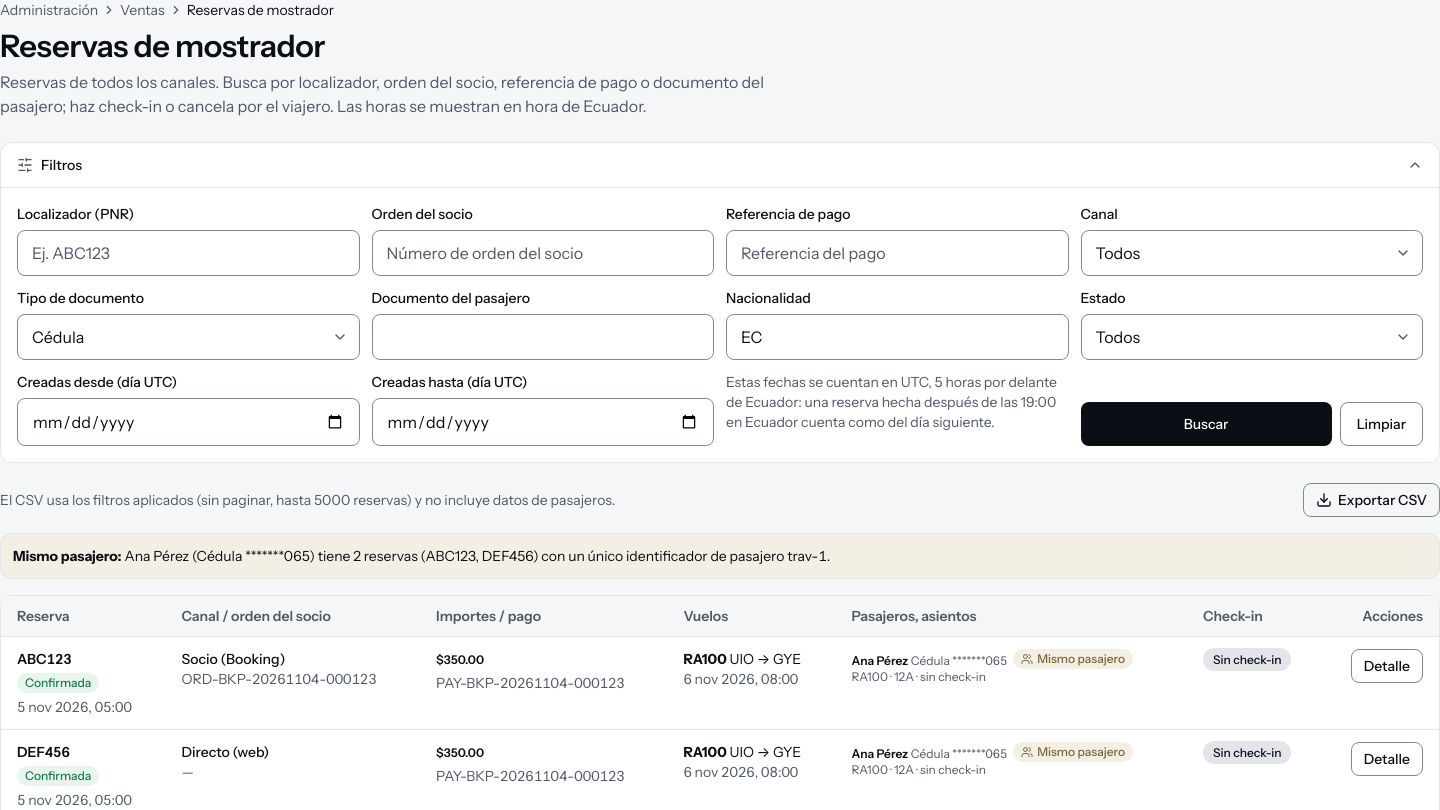
Test: AdminReservationsPage › explains the 48 h check-in window on a 409
Later steps or results of the test are not shown.
Click the button with aria-label "Ver la reserva ABC123": x=1387, y=666 [1351,649,1423,683]
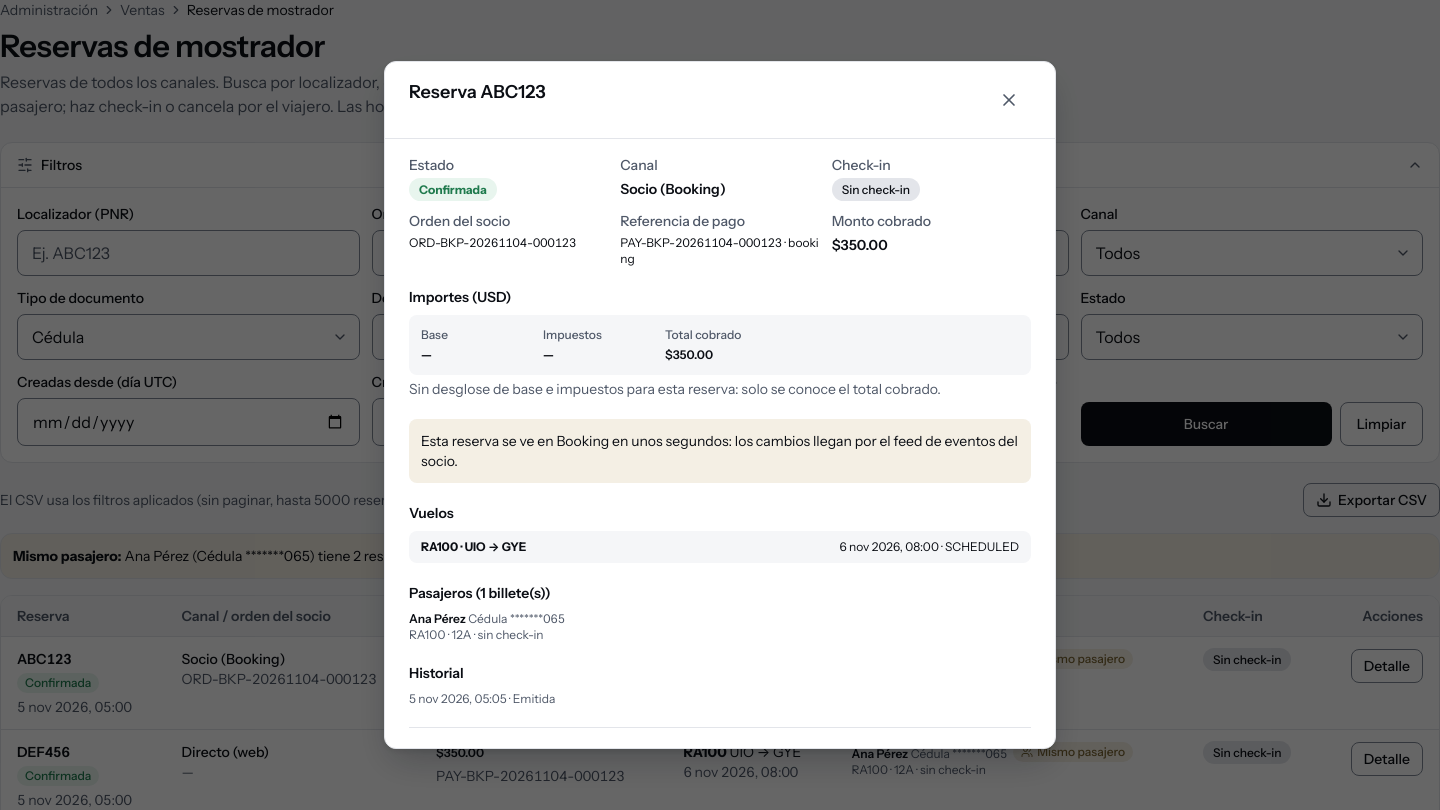
Result: the list item "Emitida" is shown at [513,691,555,706]
